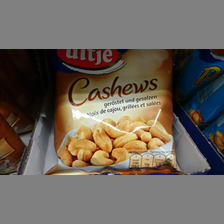nuts: (53, 50, 181, 175)
